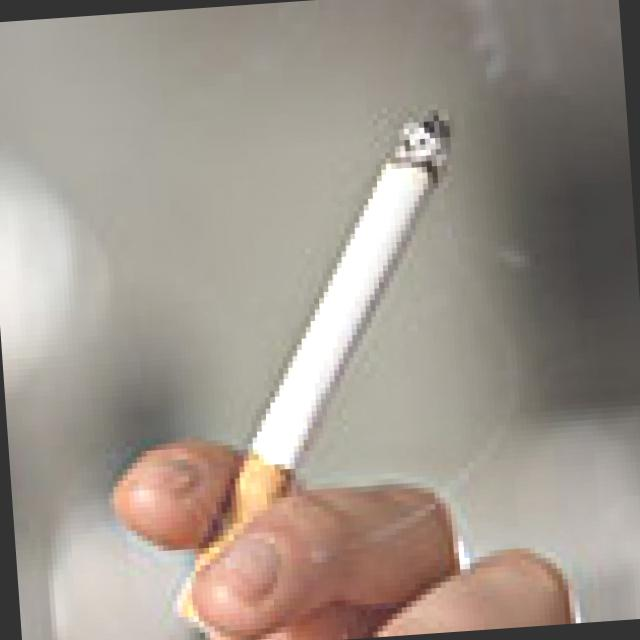cigarette: (127, 91, 504, 640)
